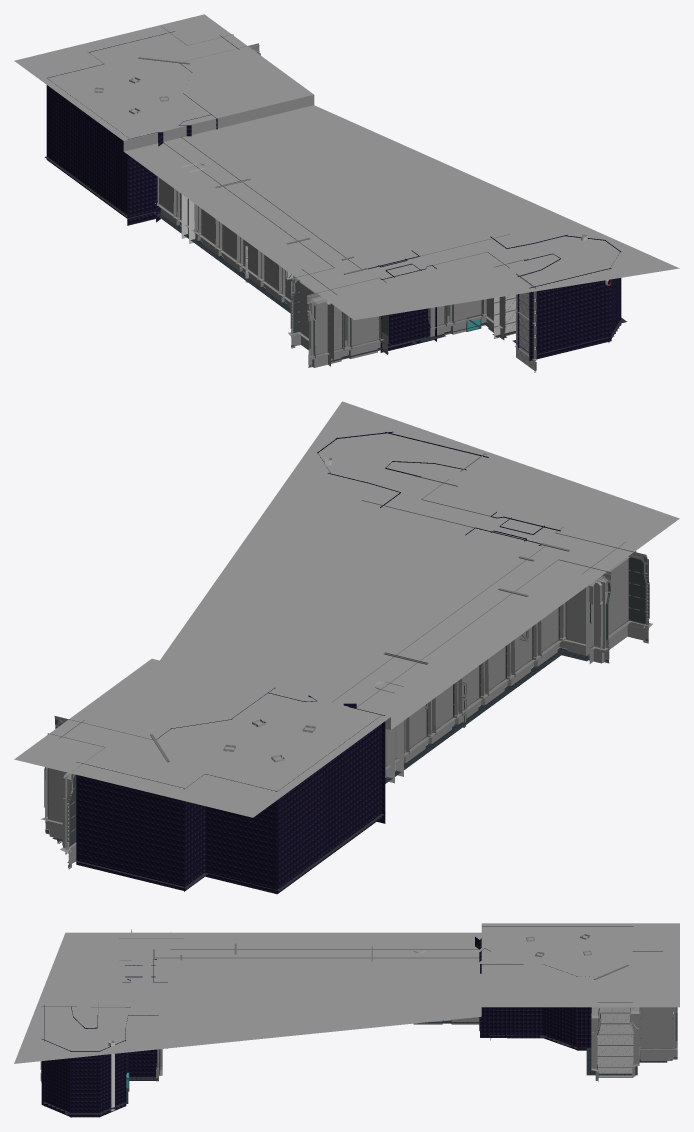
The model's file is Stage3 (6).fbx.
3 views of the same model, one above another, from view 1: azimuth 30°, elevation 25°; view 2: azimuth 150°, elevation 25°; view 3: azimuth 270°, elevation 25° (orthographic). The views are drawn at different scales.
Parts seen in each view (by area): view 1: 1000, Cube, BaDack; view 2: 1000, Cube, BaDack; view 3: 1000, Cube, BaDack.
Part boxes in pixels (<box>): 1000: <box>14,14,679,320</box>; Cube: <box>46,26,621,372</box>; BaDack: <box>44,156,626,361</box>; 1000: <box>14,401,679,817</box>; Cube: <box>41,431,652,894</box>; BaDack: <box>52,648,589,891</box>; 1000: <box>14,923,679,1063</box>; Cube: <box>40,926,677,1117</box>; BaDack: <box>43,1020,667,1114</box>.
Size of the model in its own units: 47159 by 13964 by 97779.
